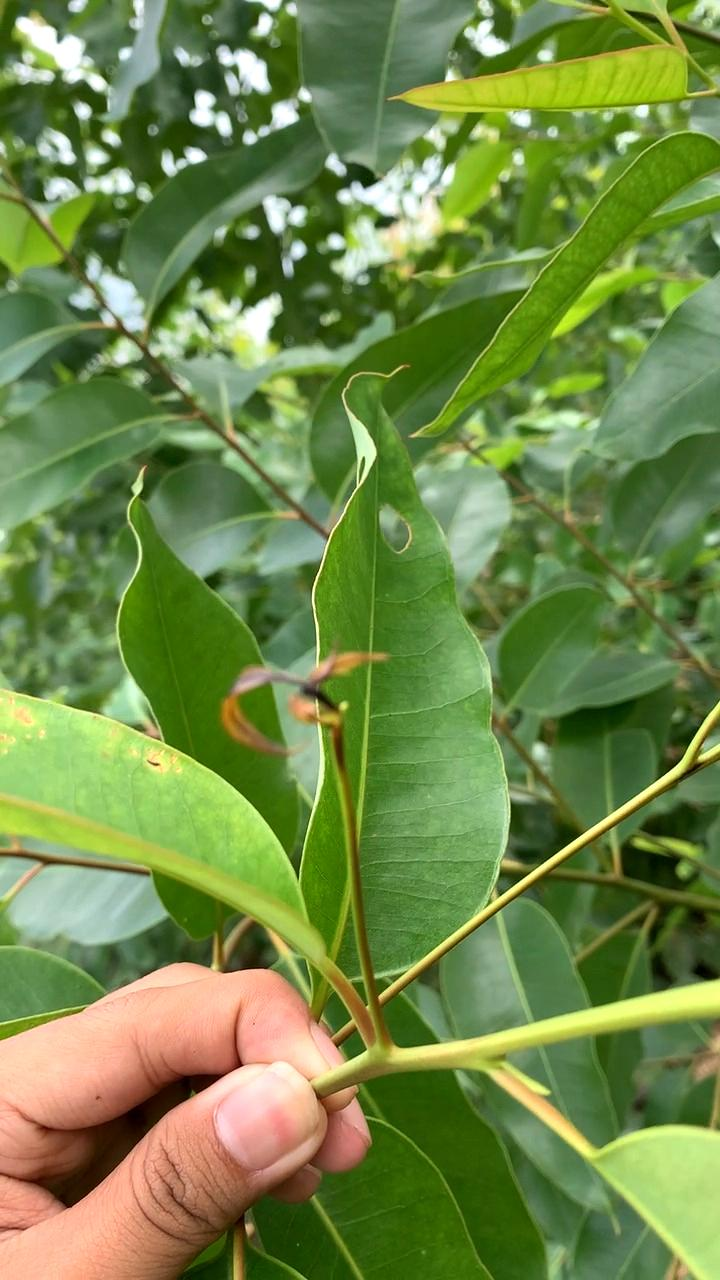Helopeltis-Withered Sprout: (216, 636, 407, 777)
